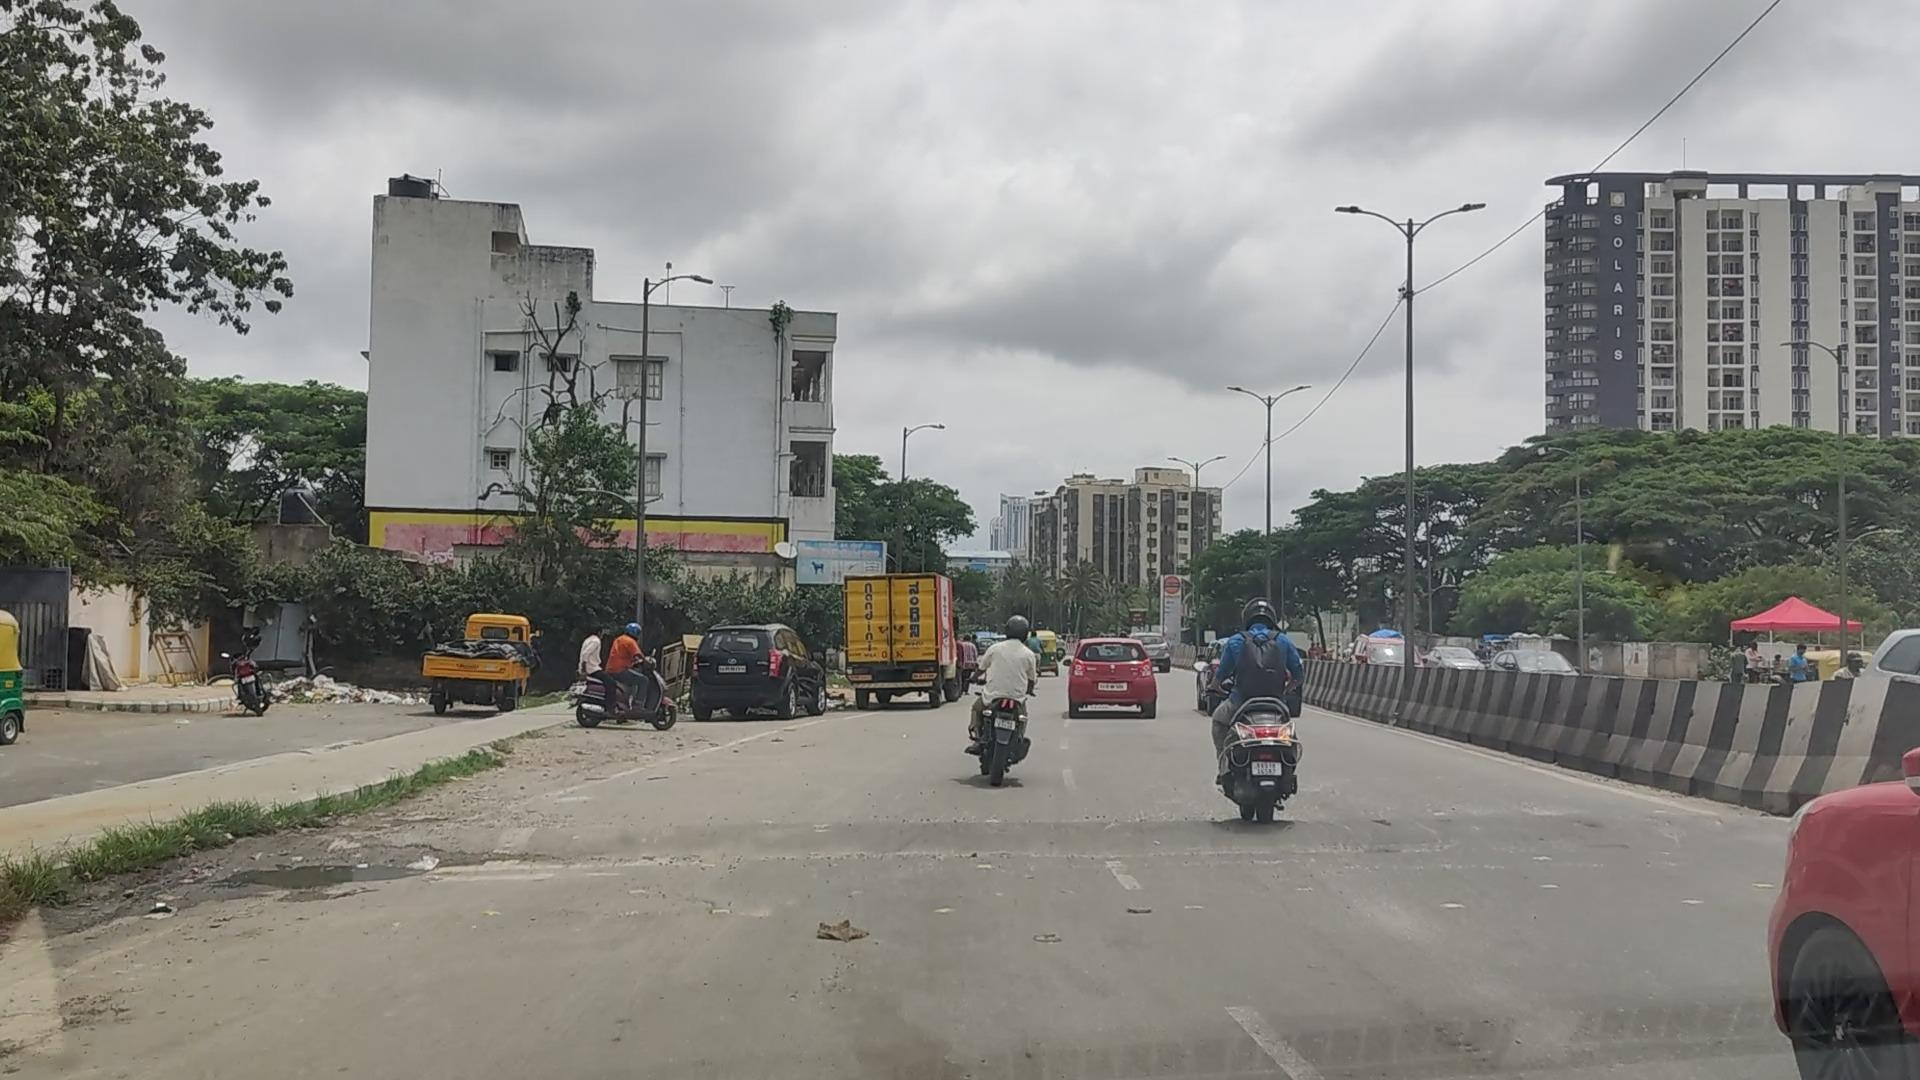HMV: (849, 575, 956, 698)
LMV: (1215, 603, 1309, 820), (978, 615, 1036, 778), (1072, 645, 1154, 715)
RoadDamages: (177, 833, 555, 926), (0, 953, 146, 1079)
SpeedBump: (506, 800, 1729, 868)
